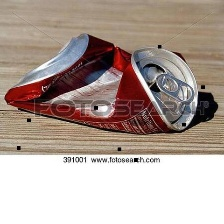can: (3, 32, 203, 138)
